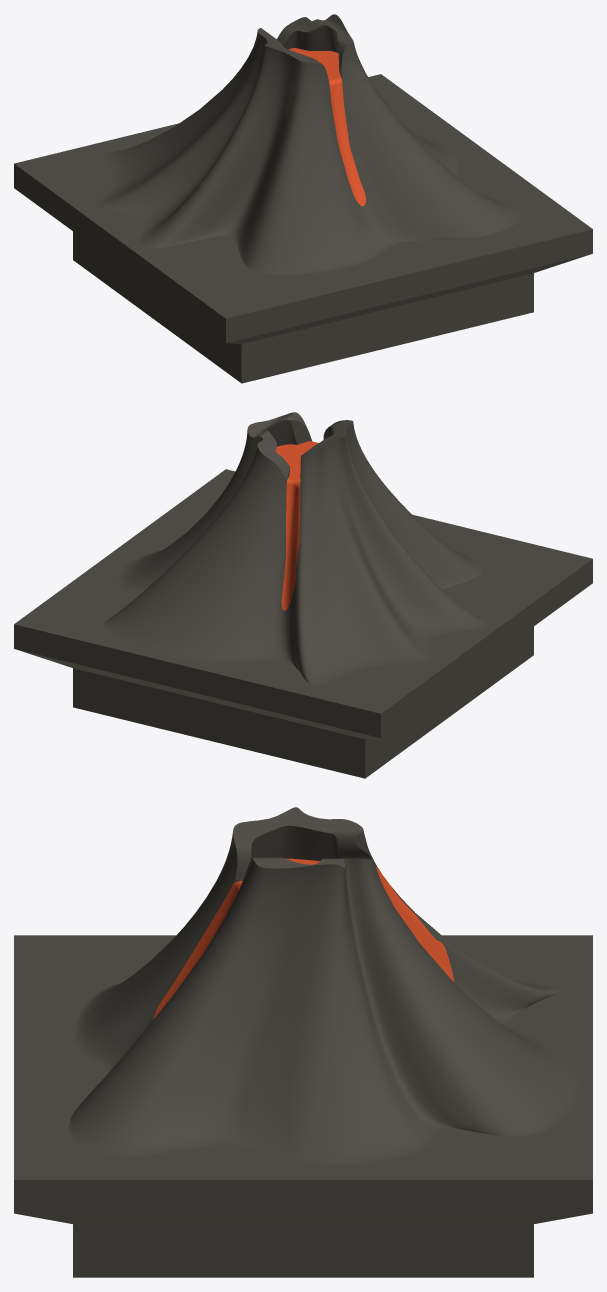
The model's file is volc.obj.
3 views of the same model, one above another, from view 1: azimuth 30°, elevation 25°; view 2: azimuth 150°, elevation 25°; view 3: azimuth 270°, elevation 25° (orthographic). The views are drawn at different scales.
Visible parts, largest first — view 1: mesh20, mesh30, mesh22, mesh34, mesh33, mesh25, mesh31, mesh55, mesh12, mesh51, mesh6; view 2: mesh20, mesh30, mesh24, mesh29, mesh33, mesh25, mesh27, mesh35, mesh51, mesh6, mesh12; view 3: mesh20, mesh30, mesh23, mesh32, mesh26, mesh9, mesh7, mesh35, mesh55, mesh1.
Part boxes in pixels (<box>): mesh20: <box>94,31,523,275</box>; mesh30: <box>14,74,592,318</box>; mesh22: <box>241,273,533,383</box>; mesh34: <box>226,229,592,342</box>; mesh33: <box>14,164,225,342</box>; mesh25: <box>73,231,241,383</box>; mesh31: <box>226,254,591,344</box>; mesh55: <box>330,83,365,206</box>; mesh12: <box>283,25,338,53</box>; mesh51: <box>289,48,340,80</box>; mesh6: <box>277,17,329,45</box>; mesh20: <box>103,422,489,686</box>; mesh30: <box>14,469,592,713</box>; mesh24: <box>73,668,365,778</box>; mesh29: <box>14,624,380,738</box>; mesh33: <box>381,559,592,737</box>; mesh25: <box>365,626,533,778</box>; mesh27: <box>15,649,379,739</box>; mesh35: <box>281,485,300,610</box>; mesh51: <box>275,441,317,481</box>; mesh6: <box>257,430,289,479</box>; mesh12: <box>267,420,297,450</box>; mesh20: <box>68,833,579,1164</box>; mesh30: <box>14,935,592,1179</box>; mesh23: <box>73,1224,533,1277</box>; mesh32: <box>14,1180,592,1213</box>; mesh26: <box>16,1213,590,1224</box>; mesh9: <box>251,825,339,861</box>; mesh7: <box>233,807,361,879</box>; mesh35: <box>377,868,454,981</box>; mesh55: <box>153,885,237,1019</box>; mesh1: <box>305,827,372,859</box>.
Size of the model in its own units: 0.0373 by 0.0246 by 0.0373.
